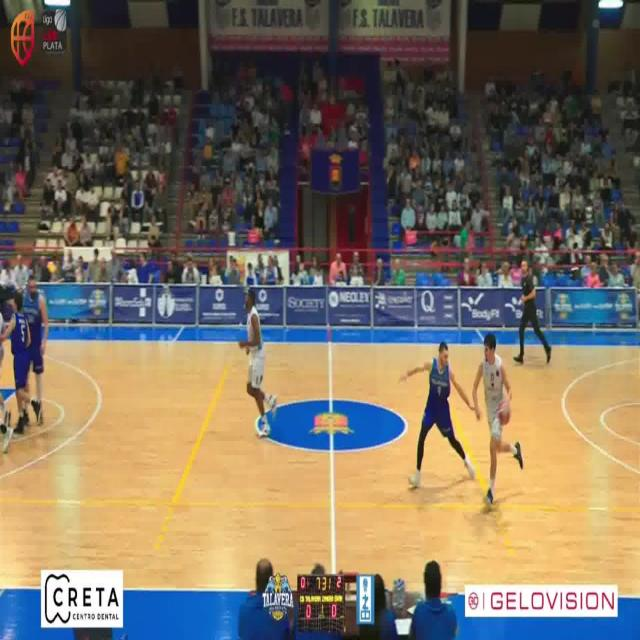ball: (498, 398, 512, 425)
player: (400, 341, 477, 489), (473, 332, 525, 508), (0, 290, 41, 433), (238, 287, 277, 437), (22, 274, 47, 425), (0, 312, 3, 368)
referee: (514, 258, 552, 363)
